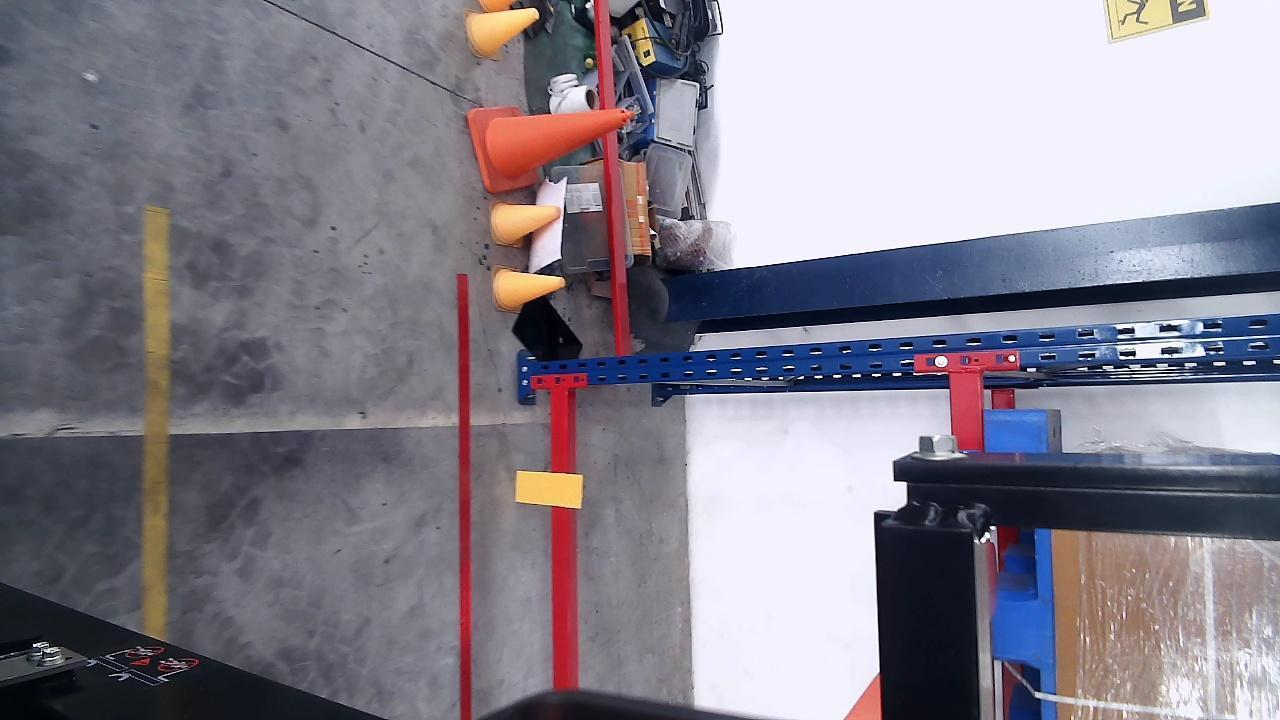red_line: (457, 269, 474, 720)
yellow_line: (142, 207, 167, 644)
